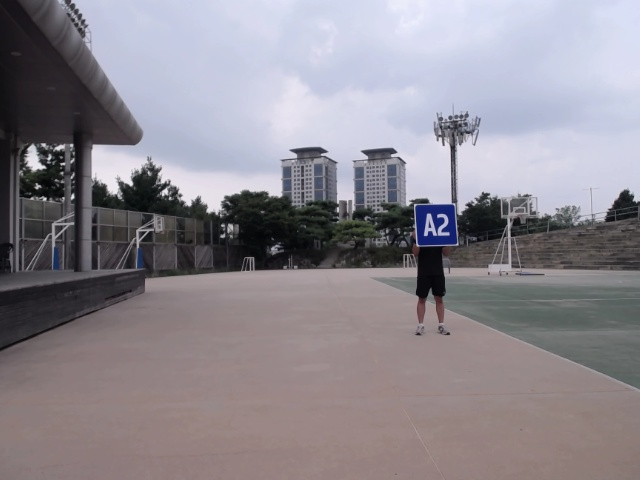delivery_a2: (414, 204, 458, 246)
